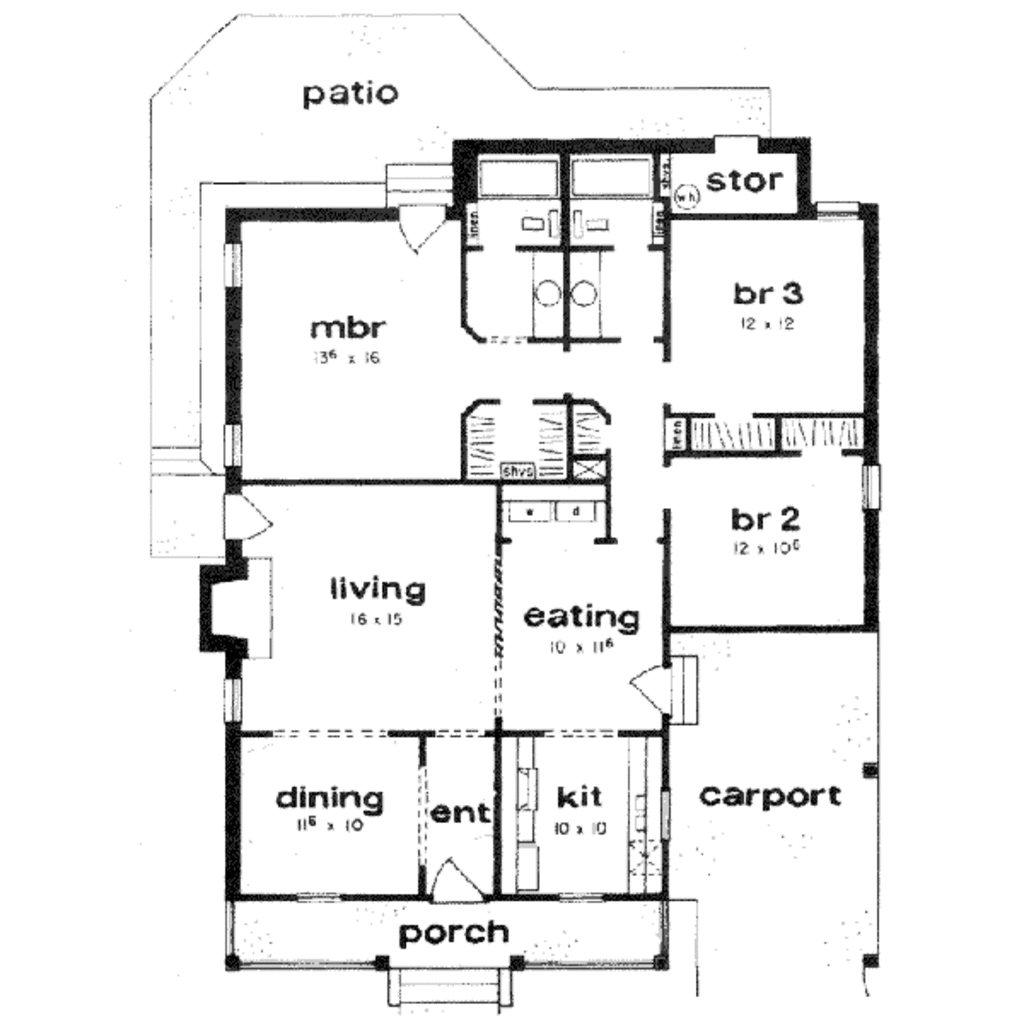door: (391, 197, 456, 262), (211, 489, 281, 544), (632, 658, 694, 717), (425, 858, 481, 903)
large_sink: (514, 201, 560, 246), (578, 201, 616, 243)
small_sink: (525, 270, 560, 341), (575, 266, 602, 332)
tub: (476, 149, 565, 203), (575, 149, 665, 200)
window: (811, 187, 867, 225), (224, 236, 257, 295), (289, 885, 356, 914), (218, 670, 252, 724), (856, 462, 887, 519), (221, 419, 251, 470), (560, 885, 610, 909)
